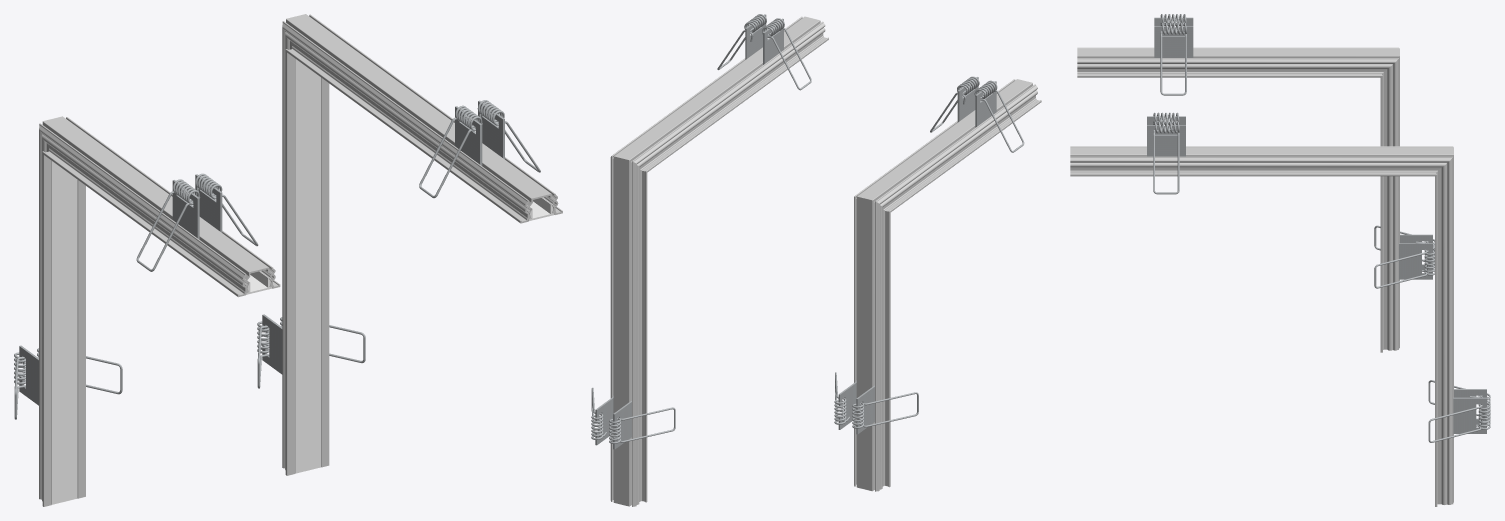
The model's file is Fit15SlimEmbutido-curva-teto-parede.glb.
The picture shows the model from 3 angles, left to right: view 1: azimuth 30°, elevation 25°; view 2: azimuth 150°, elevation 25°; view 3: azimuth 270°, elevation 25°; orthographic projection. The views are drawn at different scales.
Visible parts, largest first — view 1: 3DGeom-13 (×2), 3DGeom-1 (×2), 3DGeom-15, 3DGeom-3, 3DGeom-17 (×3), 3DGeom-5 (×3), 3DGeom-6 (×2), 3DGeom-18 (×2); view 2: 3DGeom-13 (×2), 3DGeom-1 (×2), 3DGeom-5 (×4), 3DGeom-17 (×3), 3DGeom-6 (×2), 3DGeom-18 (×2); view 3: 3DGeom-13 (×2), 3DGeom-1 (×2), 3DGeom-17 (×2), 3DGeom-5 (×2), 3DGeom-18 (×2), 3DGeom-6 (×2).
Part boxes in pixels (left/top/right/bottom): 3DGeom-13 (×2): left=282, top=14, right=562, bottom=475; 3DGeom-1 (×2): left=39, top=116, right=280, bottom=506; 3DGeom-15: left=295, top=58, right=320, bottom=473; 3DGeom-3: left=51, top=161, right=77, bottom=504; 3DGeom-17 (×3): left=262, top=100, right=504, bottom=374; 3DGeom-5 (×3): left=19, top=174, right=222, bottom=405; 3DGeom-6 (×2): left=136, top=173, right=258, bottom=271; 3DGeom-18 (×2): left=419, top=100, right=540, bottom=198; 3DGeom-13 (×2): left=610, top=16, right=828, bottom=506; 3DGeom-1 (×2): left=854, top=79, right=1041, bottom=491; 3DGeom-5 (×4): left=838, top=77, right=996, bottom=434; 3DGeom-17 (×3): left=595, top=18, right=783, bottom=449; 3DGeom-6 (×2): left=852, top=80, right=1024, bottom=428; 3DGeom-18 (×2): left=609, top=18, right=811, bottom=443; 3DGeom-13 (×2): left=1070, top=146, right=1453, bottom=506; 3DGeom-1 (×2): left=1077, top=47, right=1399, bottom=352; 3DGeom-17 (×2): left=1147, top=125, right=1486, bottom=433; 3DGeom-5 (×2): left=1154, top=26, right=1432, bottom=279; 3DGeom-18 (×2): left=1153, top=121, right=1490, bottom=442; 3DGeom-6 (×2): left=1160, top=22, right=1434, bottom=288.
Bounding box in the file's own units: 0.2265 × 0.2739 × 0.2739.
Materials: 3 (1 with a texture image).
